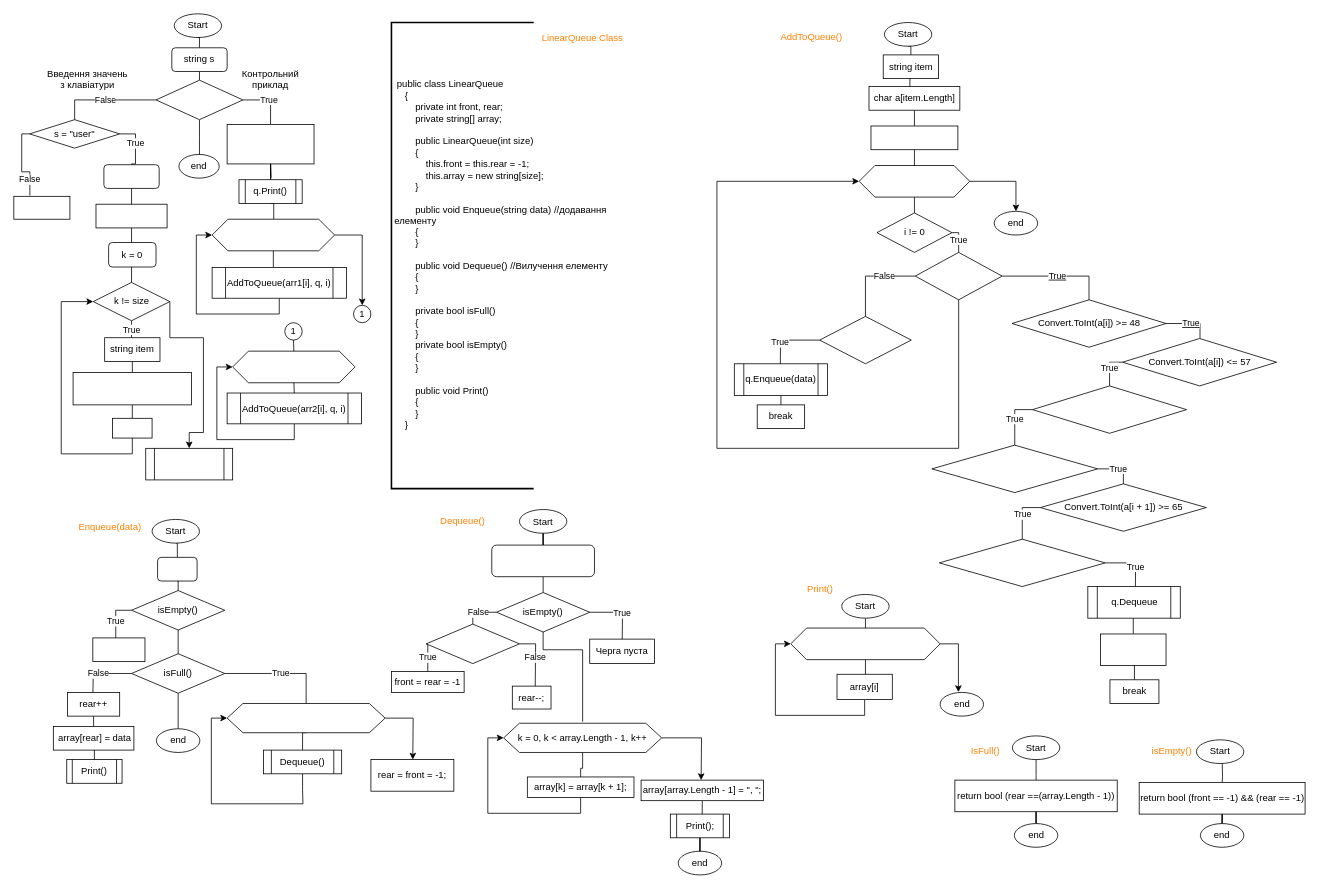
This 1319x889 diagram has some shape labels left out. Here are the shapes that lost their labels. From the top down, the centre of each, then its label:
point 199,99: s = "example"
point 270,144: LinearQueue q(10), string arr1[10], string arr2[4]
point 914,137: a = item.ToCharArray()
point 131,176: size
point 914,181: i = 0; i < a.Length; i++
point 41,207: Помилка
point 131,215: LinearQueue q
point 273,234: i = 0; i < arr1.Length; i++
point 958,276: i != a.Length - 1
point 865,340: i == a.Length - 1
point 293,366: i = 0; i < arr2.Length; i++
point 132,388: AddToQueue(item, q, ref k)
point 132,428: k++
point 1109,409: Convert.ToInt(a[i - 1]) >= 65
point 189,464: q.Enqueue(" ")
point 1014,468: Convert.ToInt32(a[i - 1]) <= 122
point 177,569: data
point 542,560: string el = array[front] array[front] = "";
point 1022,562: Convert.ToInt(a[i + 1]) <= 122
point 118,649: front++
point 472,643: front == rear
point 865,643: i = 0, i < array.Length, i++
point 1133,649: k = k - 2
point 305,718: i = 0, i < array.Length - 1, i++
